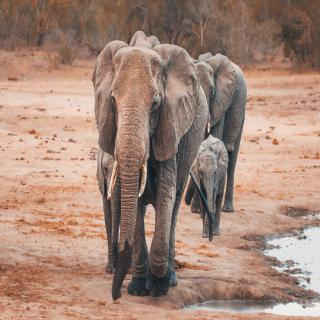Elephant: (90, 33, 210, 298), (94, 138, 148, 274), (188, 134, 229, 246)
